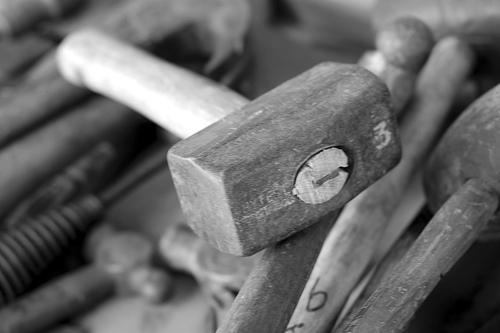hammer: (0, 220, 173, 332), (356, 13, 440, 112)
